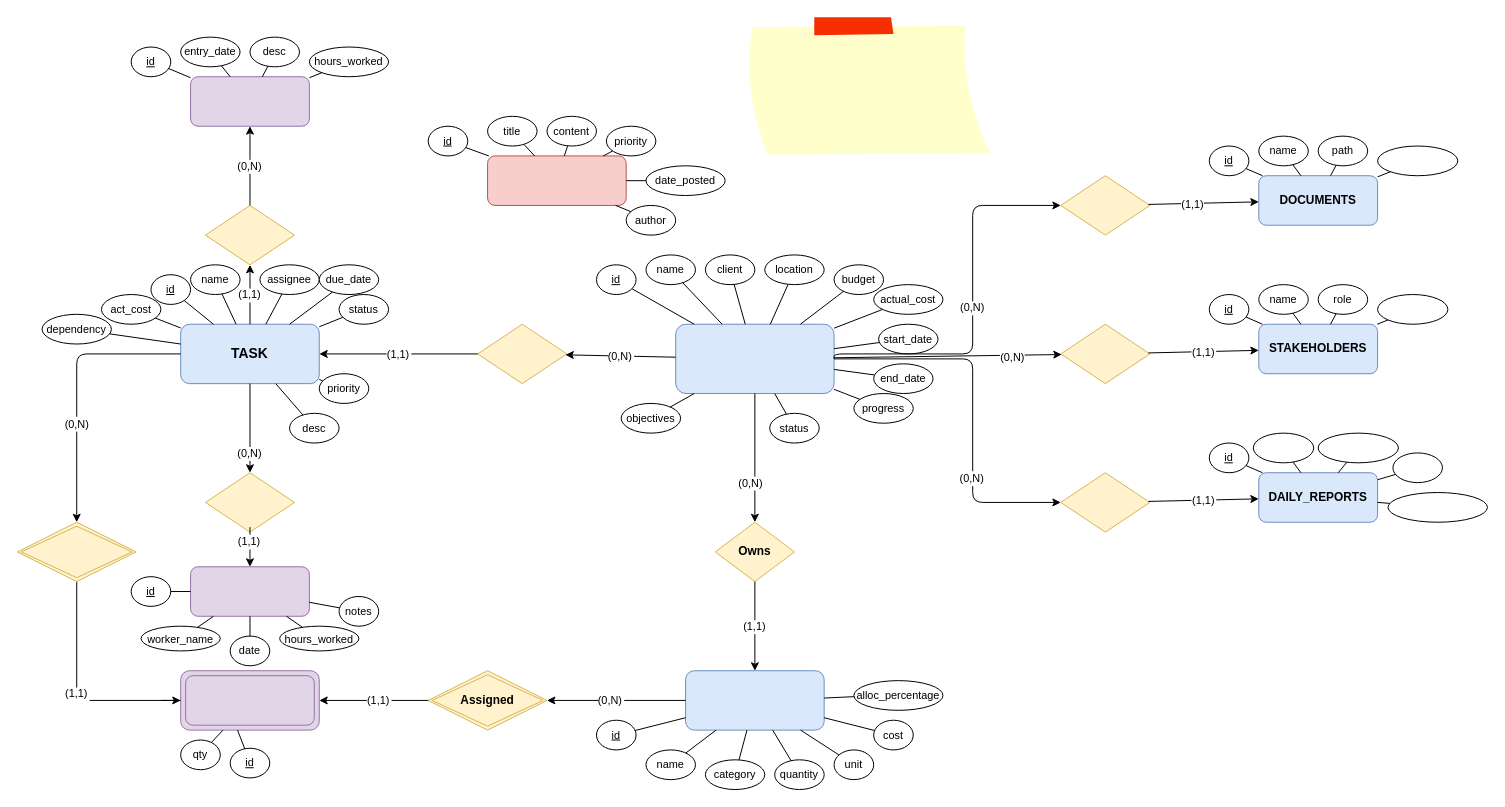
The diagram is 1505 pixels wide and 807 high, and some of its shapes have lost their labels. The centre of each missing label's shape, as x and y in pixels:
ALL ENTITIES INCLUDE ATTRIBUTES: created at last_modified_at version: pixel 868 86
ANNOUNCEMENTS: pixel 556 180
contact_info: pixel 1412 309
Contains: pixel 522 353
DAILY_LOGS: pixel 249 101
Generates: pixel 1105 502
Has: pixel 76 551
Involves: pixel 1105 353
issues: pixel 1417 467
Logs: pixel 249 234
PROJECT: pixel 754 358
report_date: pixel 1283 447
RESOURCES: pixel 754 700
Stores: pixel 1105 205
TASK_ALLOCATIONS: pixel 249 700
Tracks: pixel 249 502
uploaded_by: pixel 1417 160
weather_conditions: pixel 1437 507
WORK_LOGS: pixel 249 591
work_summary: pixel 1357 447
